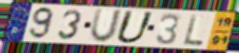3: (57, 9, 83, 41), (156, 12, 180, 46)
9: (27, 6, 56, 41)
L: (183, 13, 205, 46)
U: (114, 9, 157, 45), (88, 8, 125, 45)
